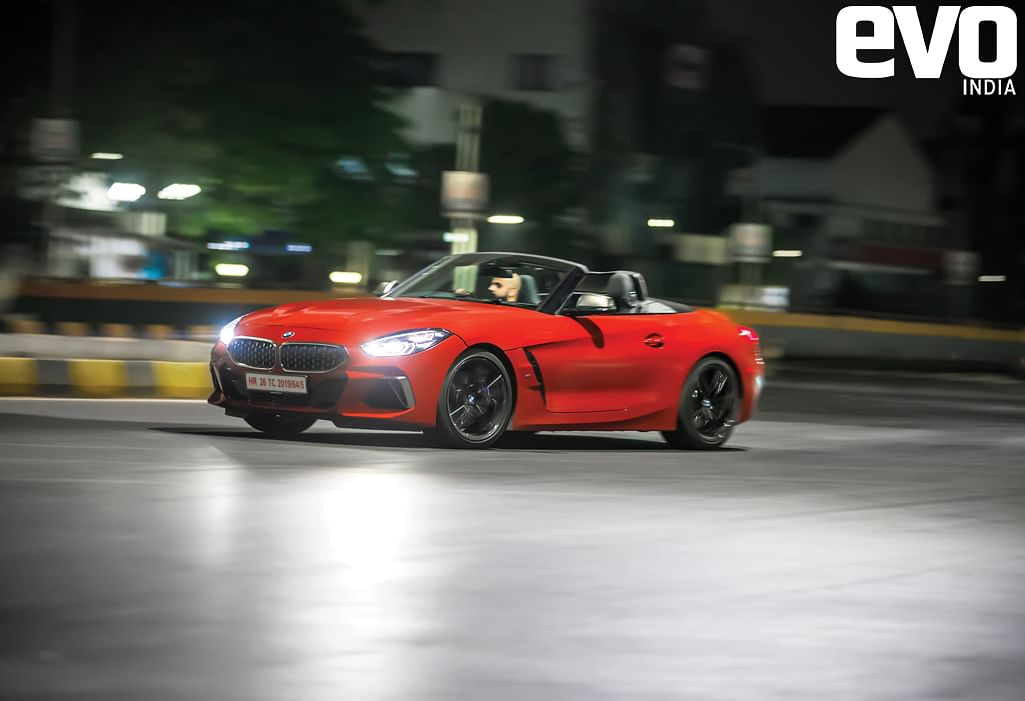car: (213, 252, 763, 464)
